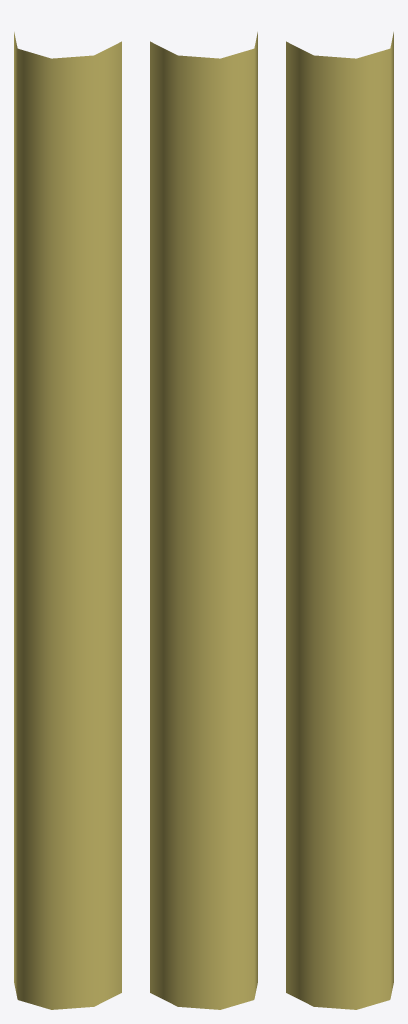
The model's file is medial-vestibulospinal-tract.glb.
3 renders of one model, left to right at view 1: azimuth 30°, elevation 25°; view 2: azimuth 150°, elevation 25°; view 3: azimuth 330°, elevation 25°, orthographic.
Parts seen in each view (by area): view 1: Medial vestibulospinal tract; view 2: Medial vestibulospinal tract; view 3: Medial vestibulospinal tract.
Part boxes in pixels (<box>): Medial vestibulospinal tract: <box>14,32,121,1009</box>; Medial vestibulospinal tract: <box>150,32,257,1009</box>; Medial vestibulospinal tract: <box>286,32,393,1009</box>.
Bounding box in the file's own units: 0.000554 × 0.005 × 0.000499.
